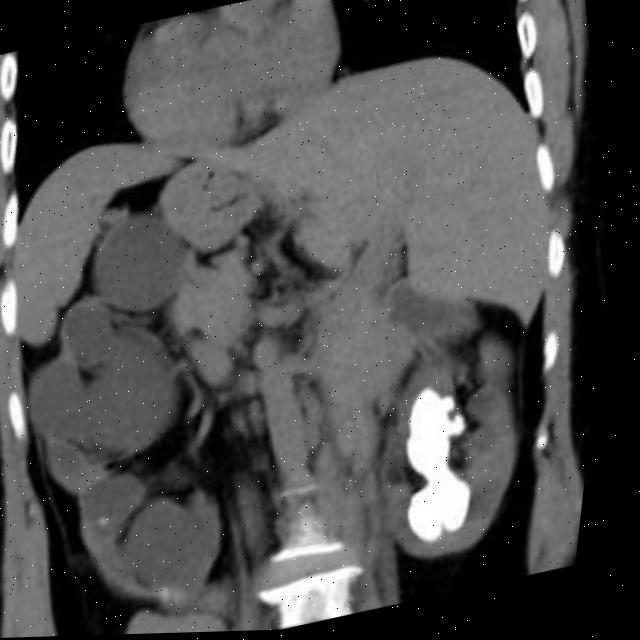Tas_Var: (385, 376, 518, 555)
